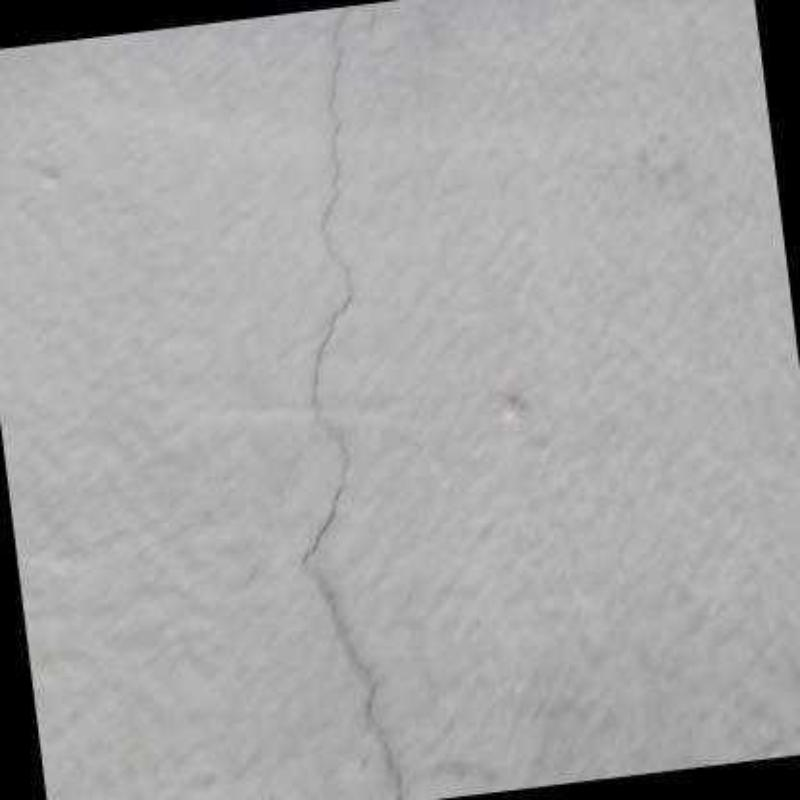crack: (288, 0, 413, 800)
